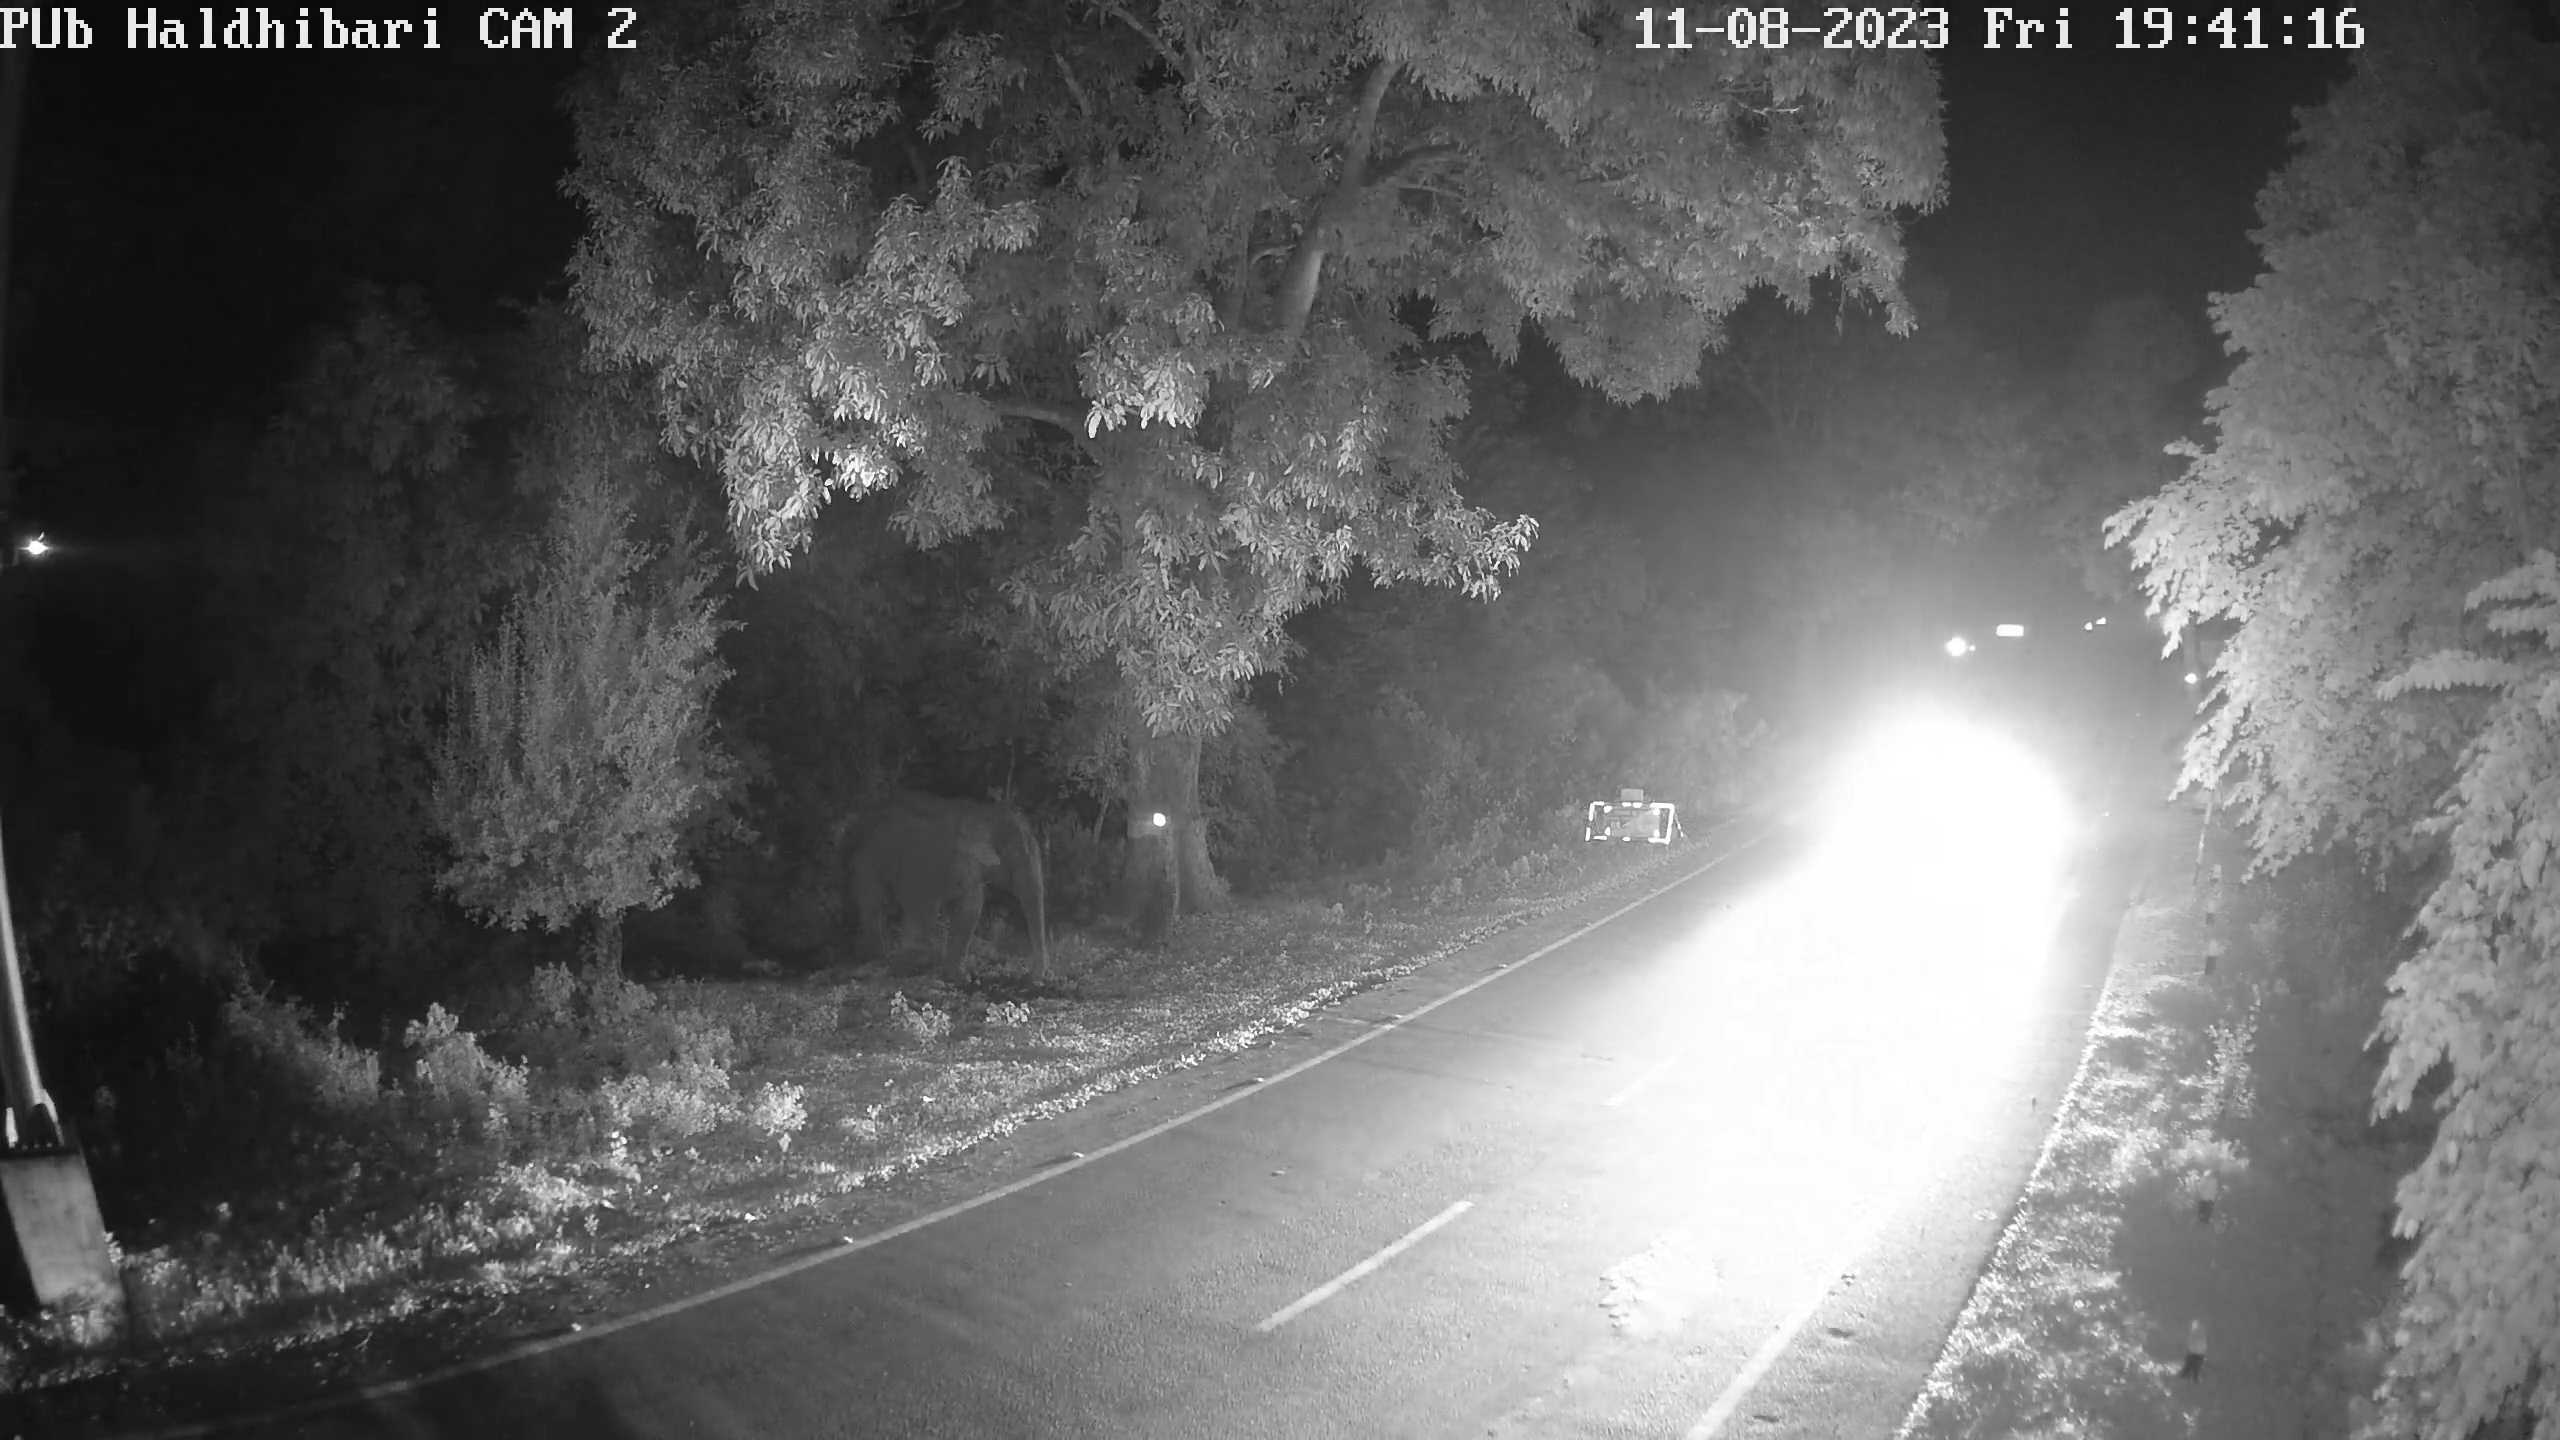elephants: (847, 793, 1044, 990)
